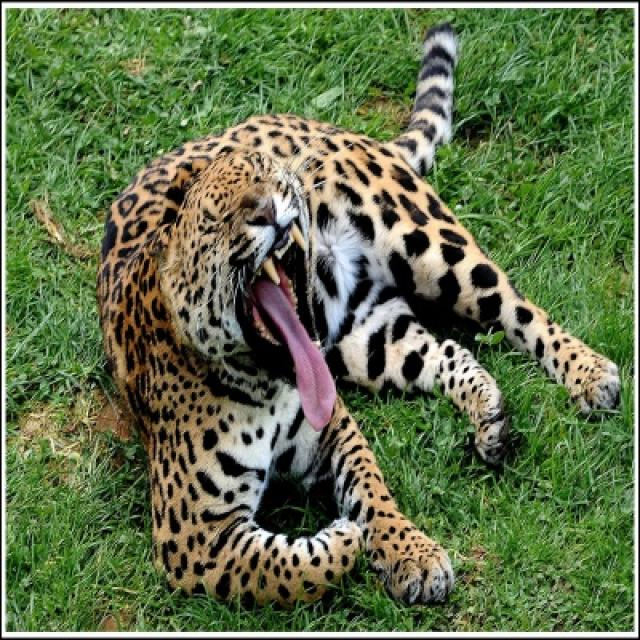Jaguar: (94, 27, 624, 611)
